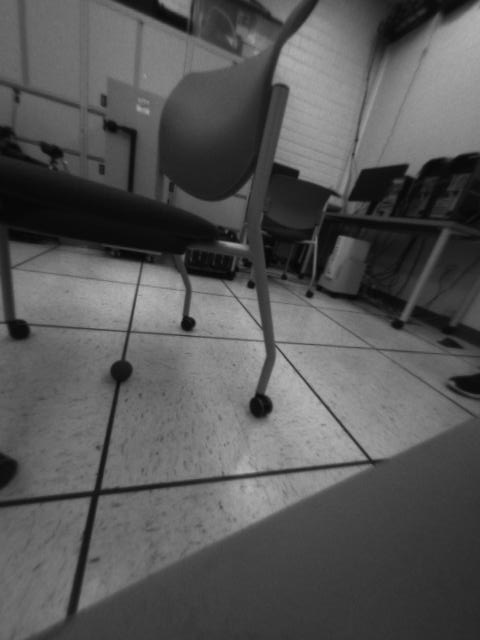dogtoy: (106, 354, 143, 388)
